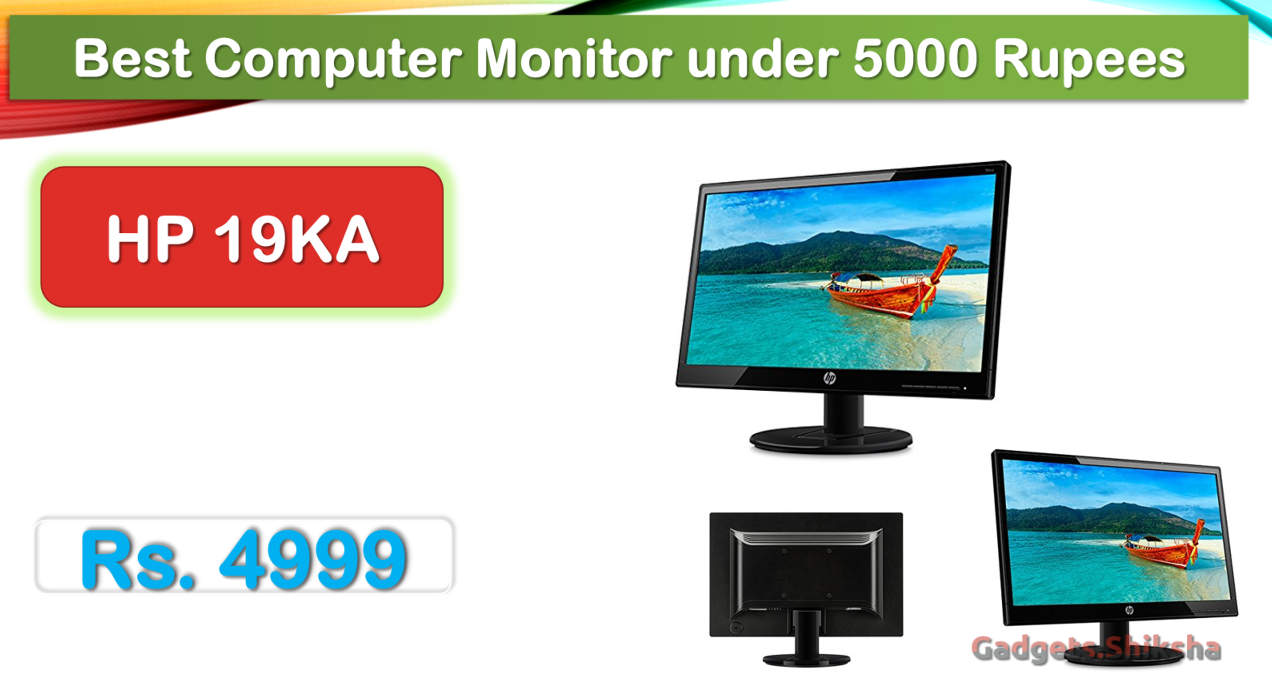hp-monitor-19ka: (670, 159, 1030, 448), (977, 458, 1254, 630)
